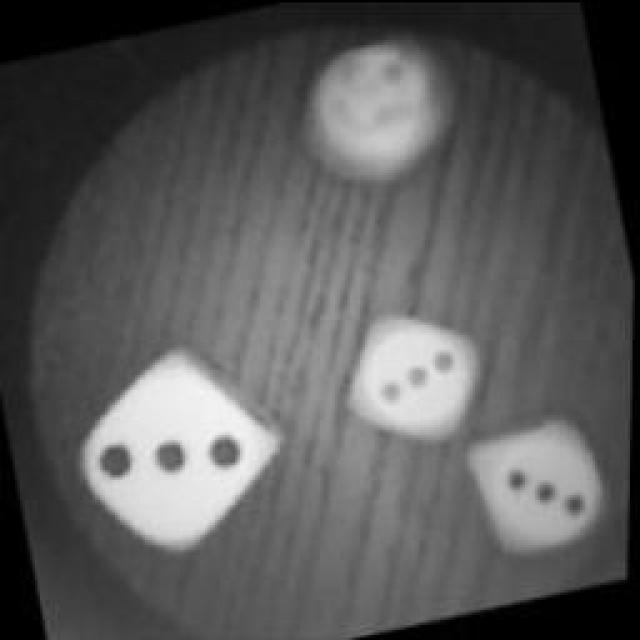dice_3: (59, 336, 299, 569), (458, 404, 624, 568), (330, 291, 500, 451)
